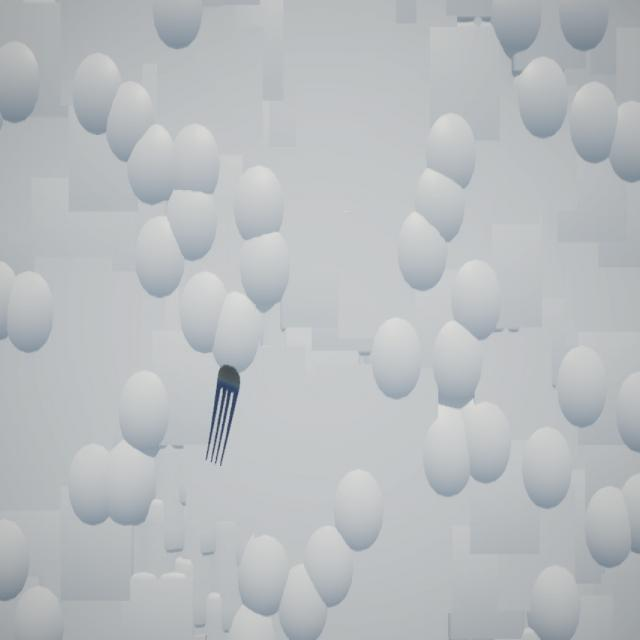top_folk: (206, 365, 242, 467)
